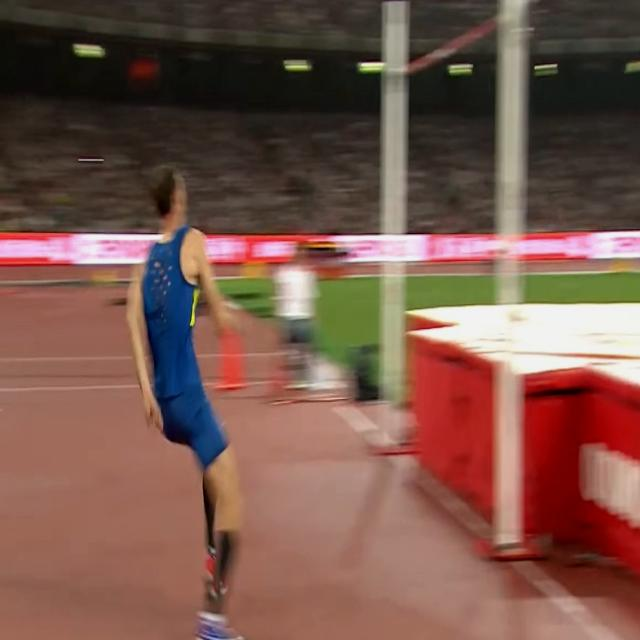run: (126, 160, 254, 640)
